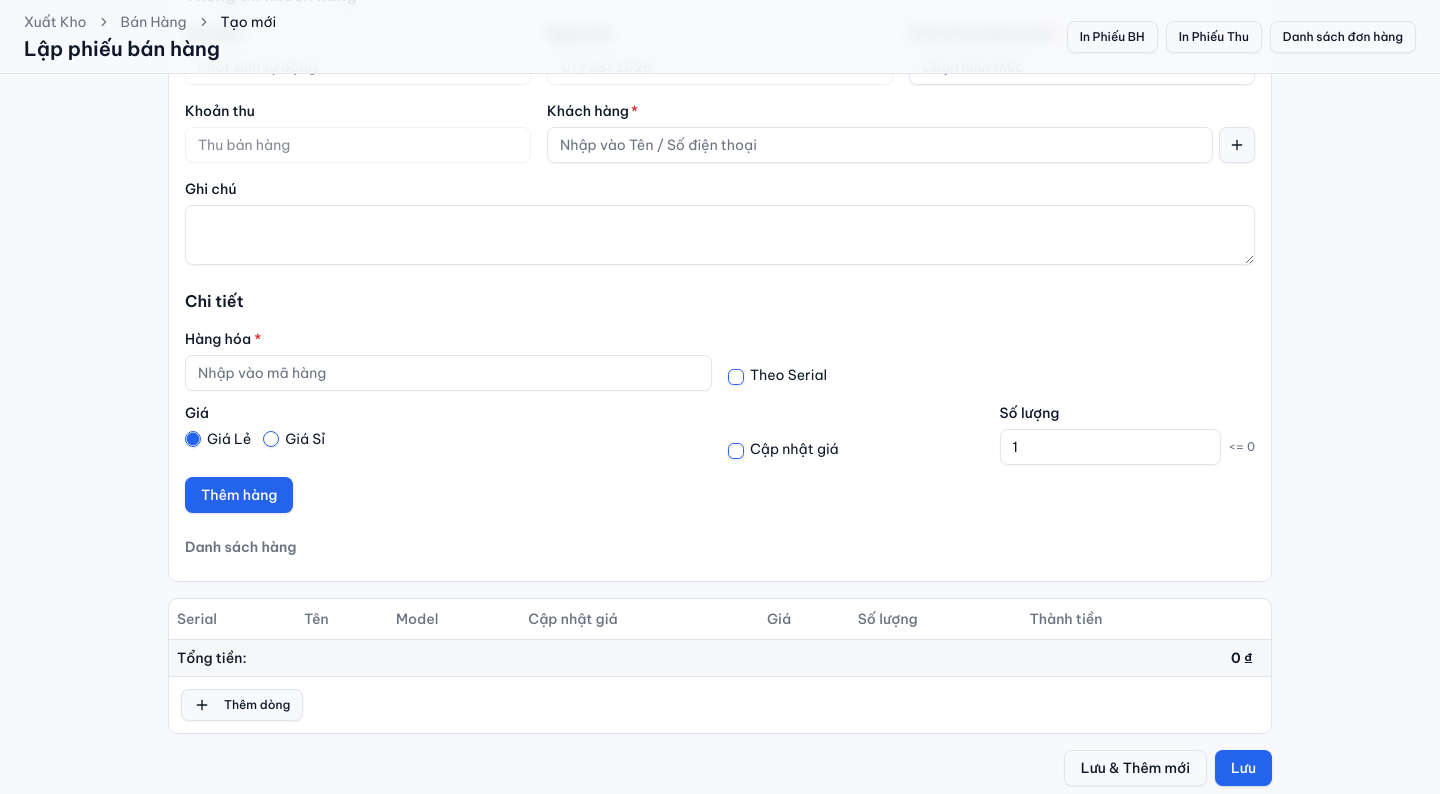
it: BanHangEditorPage — create mode › validates: no hình thức thanh toán → error, then no khách hàng → error
(page scrolled)
Click the button "Lưu" at (1244, 768), box [1215, 750, 1272, 786]
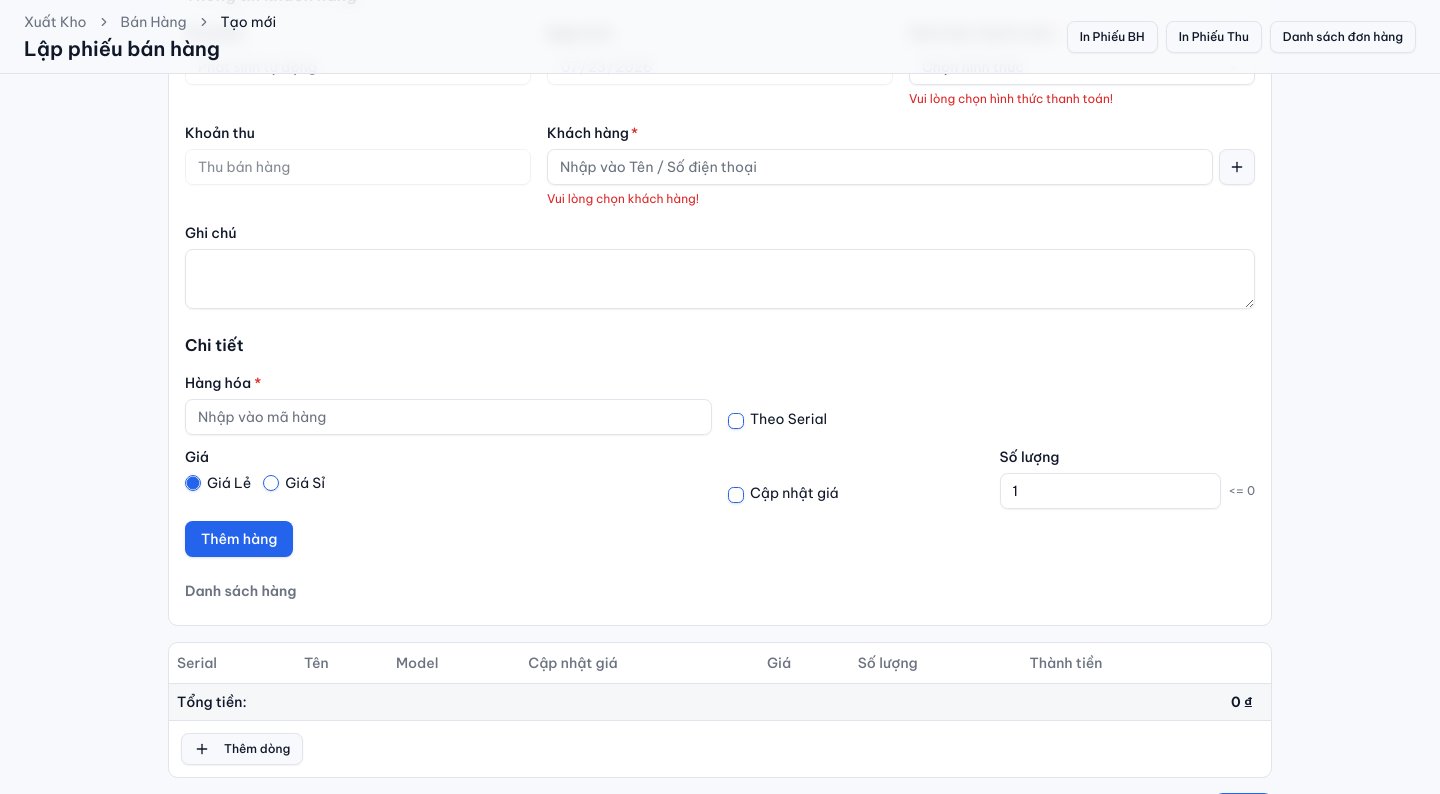
Expected: the text "Vui lòng chọn hình thức thanh toán!" is shown, [909, 91, 1113, 106]
